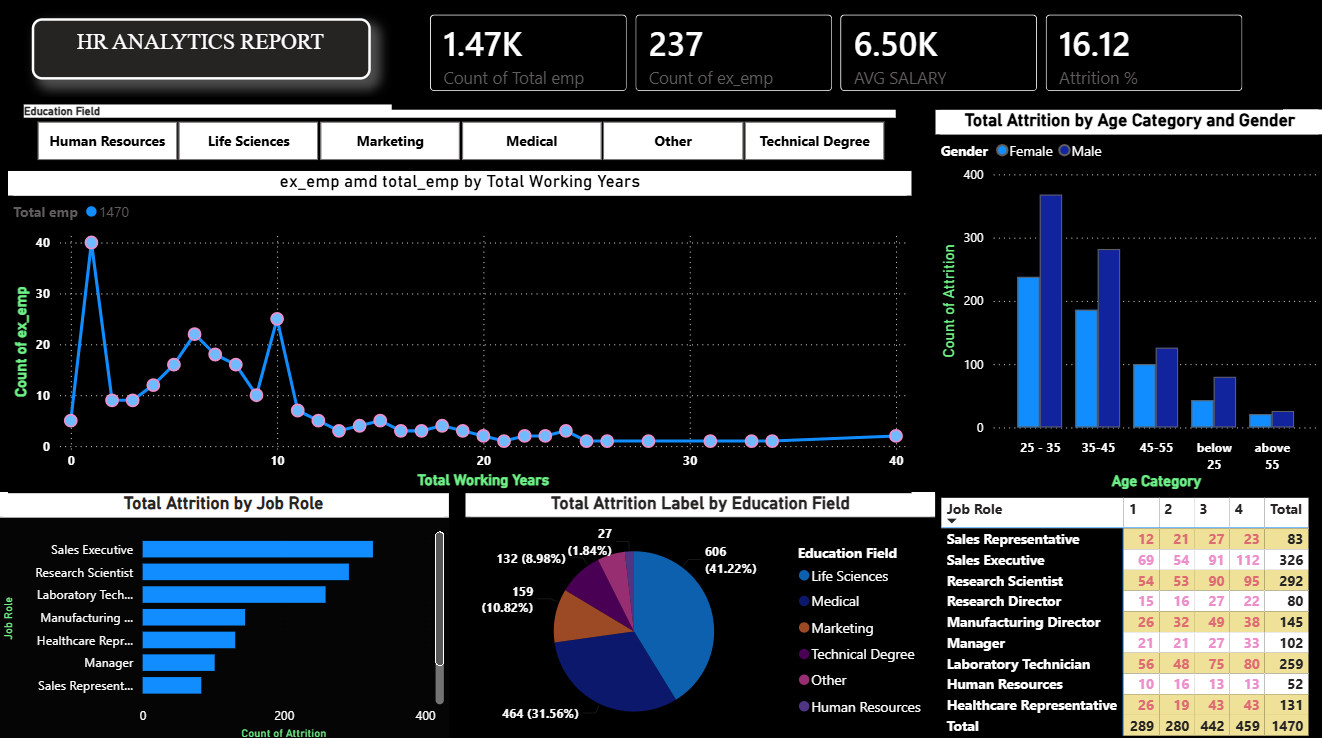

What the dashboard file says about the page in this screenshot:
{"tool":"powerbi","page":{"name":"Page 3","canvas":[1280,720],"ordinal":2},"visuals":[{"type":"textbox","box":[32.6,20.5,326.9,59.1],"z":0},{"type":"barChart","title":"Total Attrition by Job Role","fields":{"Category":["Sheet1.Job Role"],"Y":["CountNonNull(Sheet1.Attrition)"]},"box":[0,477.8,435.5,242.5],"z":1000},{"type":"pieChart","title":"Total Attrition Label by Education Field","fields":{"Y":["CountNonNull(Sheet1.Attrition Label)"],"Category":["Sheet1.Education Field"]},"box":[451.2,477.8,453.6,242.5],"z":2000},{"type":"pivotTable","fields":{"Rows":["Sheet1.Job Role"],"Columns":["Sheet1.Job Satisfaction"],"Values":["CountNonNull(Sheet1.Job Satisfaction)"]},"box":[904.8,477.8,375.2,242.5],"z":3000},{"type":"clusteredColumnChart","title":"Total Attrition by Age Category and Gender","fields":{"Y":["CountNonNull(Sheet1.Attrition)"],"Category":["Sheet1.Age Category"],"Series":["Sheet1.Gender"]},"box":[904.8,108.6,375.2,371.6],"z":4000},{"type":"lineChart","title":"ex_emp amd total_emp by Total Working Years","fields":{"Category":["Sheet1.Total Working Years"],"Series":["Sheet1.Total emp"],"Y":["CountNonNull(Sheet1.ex_emp)"]},"box":[9.7,167.7,872.3,311.3],"z":5000},{"type":"slicer","fields":{"Values":["Sheet1.Education Field"]},"box":[9.7,96.5,872.3,71.2],"z":6000},{"type":"cardVisual","fields":{"Data":["CountNonNull(Sheet1.Total emp)","CountNonNull(Sheet1.ex_emp)","Sheet1.AVG SALARY","Sheet1.Attrition %"]},"box":[380,0,860.2,108.6],"z":7000}]}

Visuals, with their boxes in screenshot pixels (x1, y1, x2, y2), scaled from the page's 1280x720 canvas onto the 1322x738 screenshot:
textbox: crop(34, 21, 371, 82)
"Total Attrition by Job Role" barChart: crop(0, 490, 450, 737)
"Total Attrition Label by Education Field" pieChart: crop(466, 490, 934, 737)
pivotTable - Sheet1.Job Role x Sheet1.Job Satisfaction: crop(934, 490, 1321, 737)
"Total Attrition by Age Category and Gender" clusteredColumnChart: crop(934, 111, 1321, 492)
"ex_emp amd total_emp by Total Working Years" lineChart: crop(10, 172, 911, 491)
slicer - Sheet1.Education Field: crop(10, 99, 911, 172)
cardVisual - CountNonNull(Sheet1.Total emp) x CountNonNull(Sheet1.ex_emp): crop(392, 0, 1281, 111)
